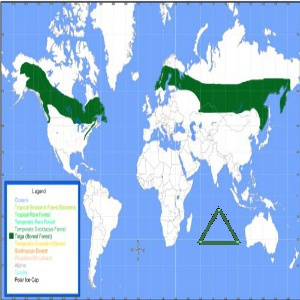triangle: (195, 206, 242, 247)
